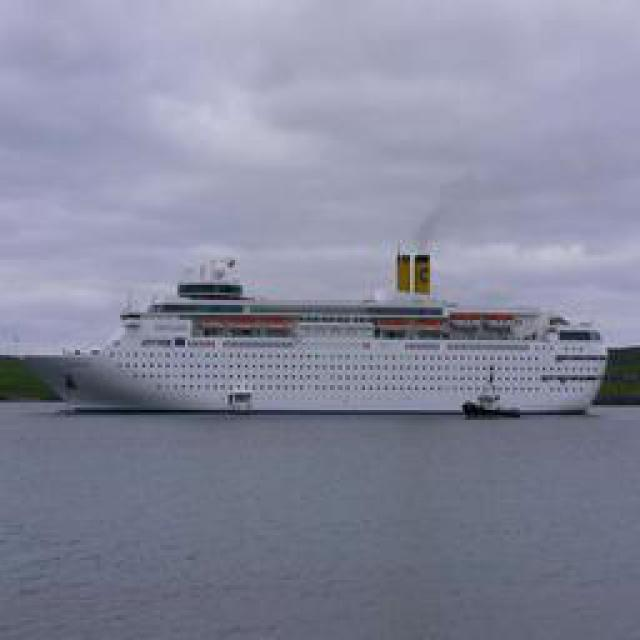Ship: (62, 301, 602, 419)
